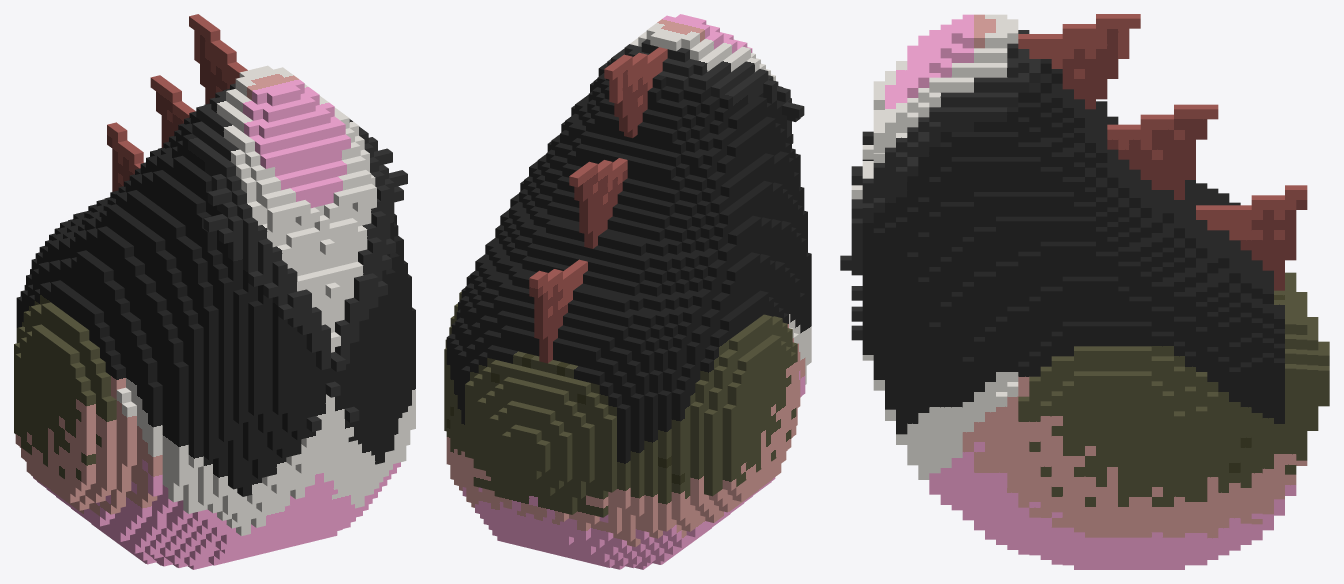
Rendered from suit.gltf.
3 views of the same model, side by side, from view 1: azimuth 30°, elevation 25°; view 2: azimuth 150°, elevation 25°; view 3: azimuth 270°, elevation 25° (orthographic). The views are drawn at different scales.
Parts seen in each view (by area): view 1: 06_Body_Suit-Mesh; view 2: 06_Body_Suit-Mesh; view 3: 06_Body_Suit-Mesh.
Part boxes in pixels (x1,y1,x2,y2): 06_Body_Suit-Mesh: [14, 14, 415, 569]; 06_Body_Suit-Mesh: [444, 14, 811, 569]; 06_Body_Suit-Mesh: [840, 14, 1329, 569].
Bounding box in the file's own units: 33 × 51 × 44.
Materials: 1 (1 with a texture image).
